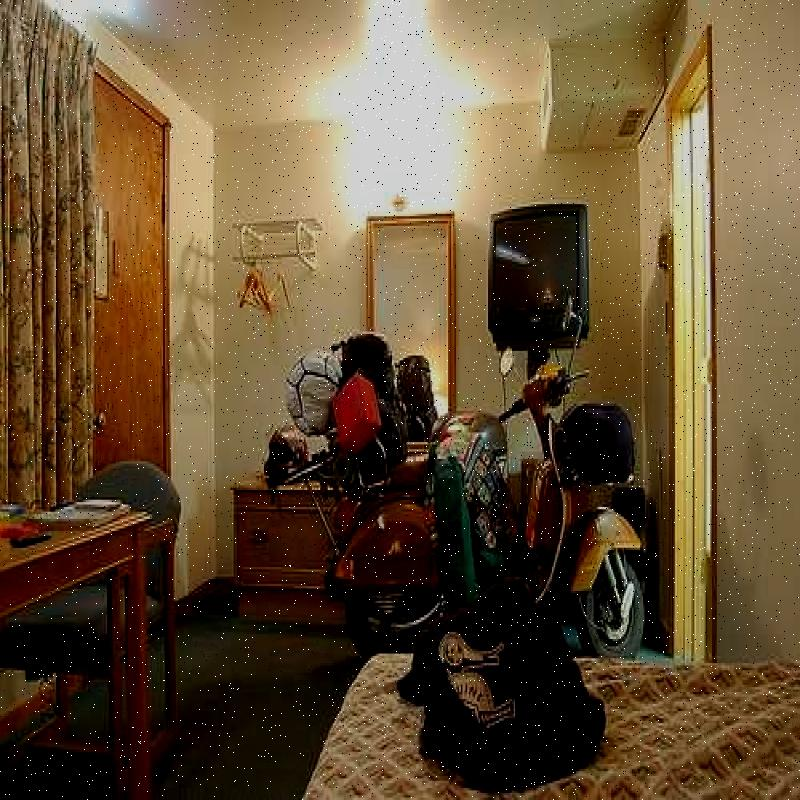bike: (319, 282, 660, 649)
